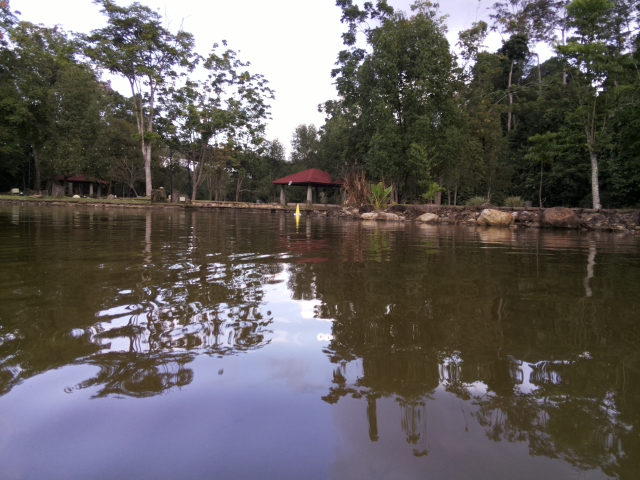checkpoint: (292, 202, 303, 218)
